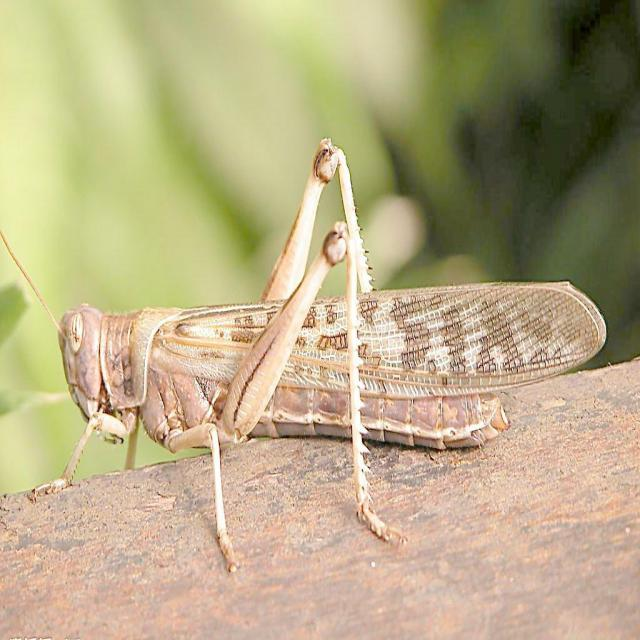ZhaMeng: (31, 135, 606, 554)
